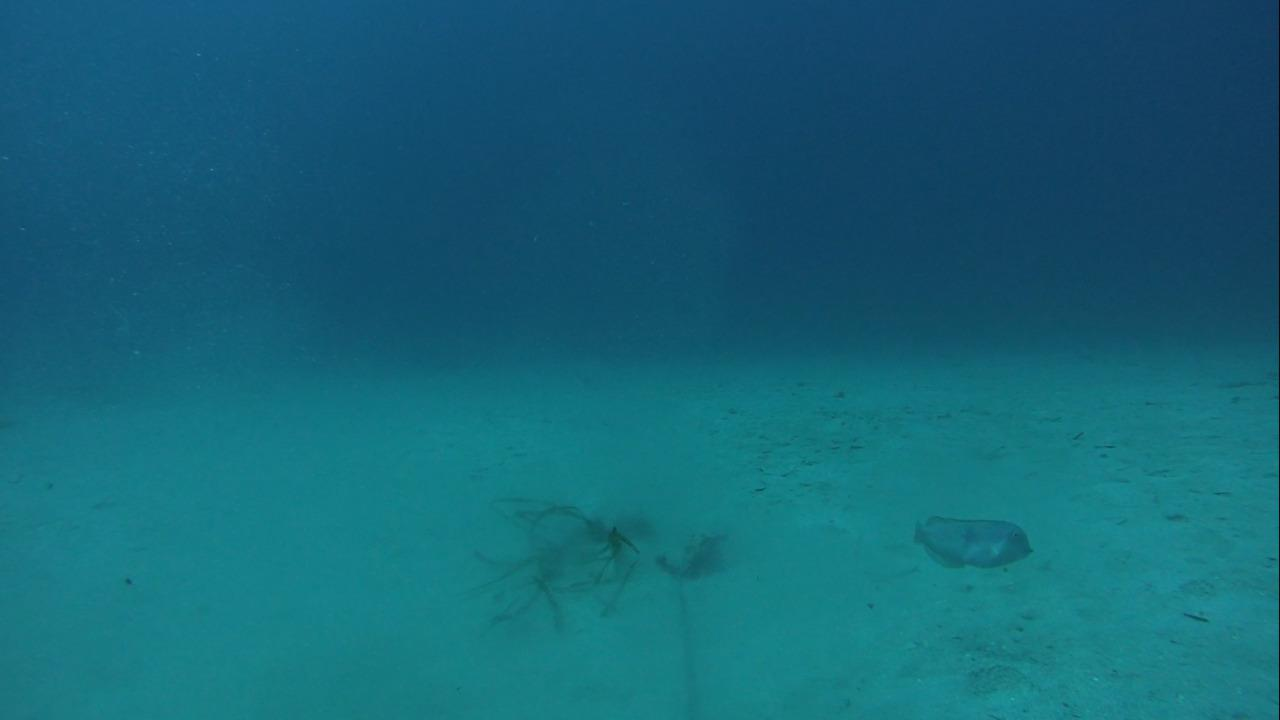raor: (907, 511, 1033, 569)
